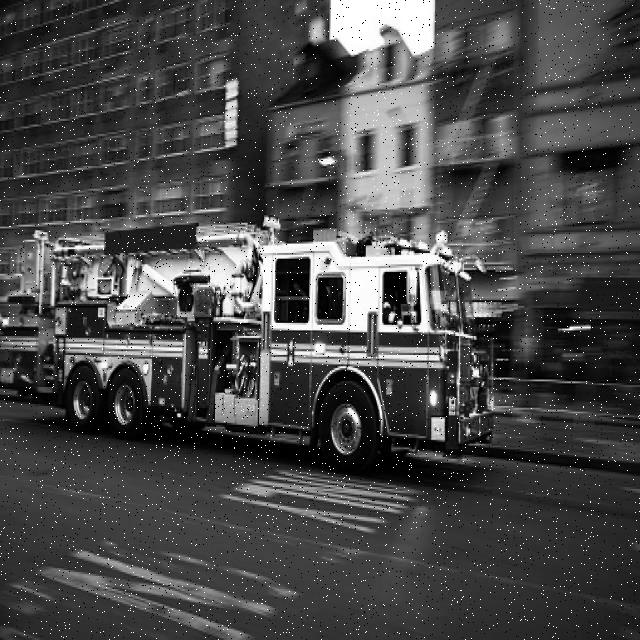Fire Truck: (0, 216, 495, 475)
